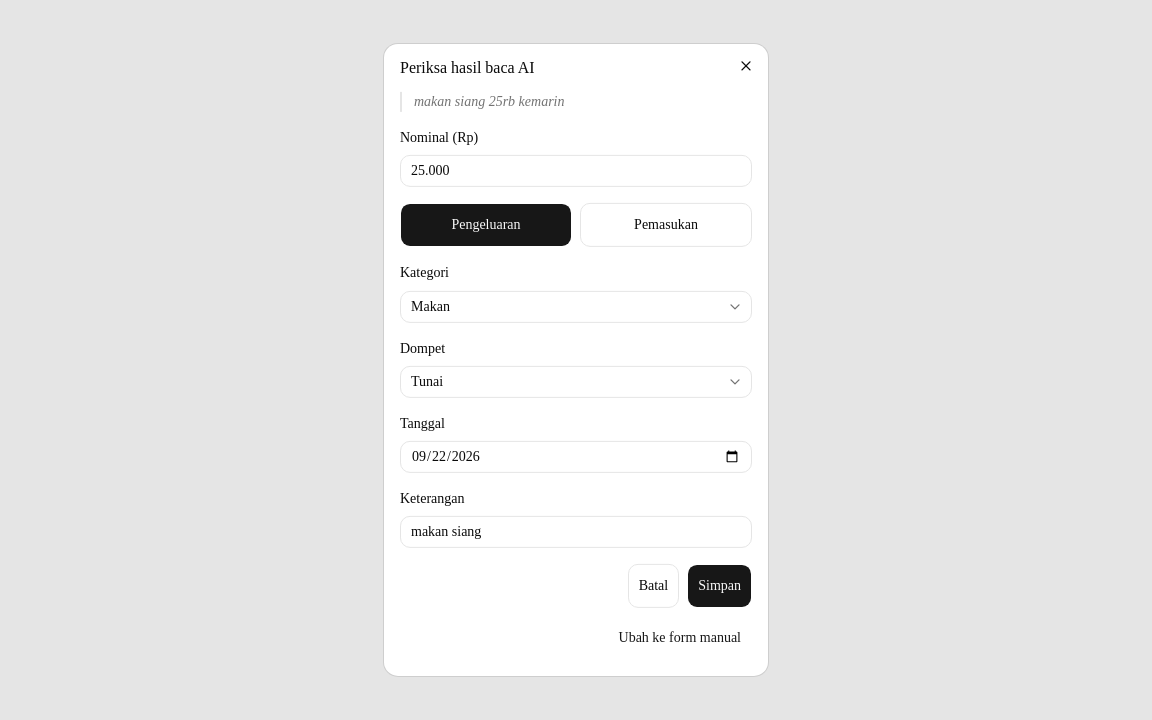
it: ConfirmCard › pesan error server tampil di atas form
Step 1. Click the button "Simpan" → (720,586), box [687,564,752,608]
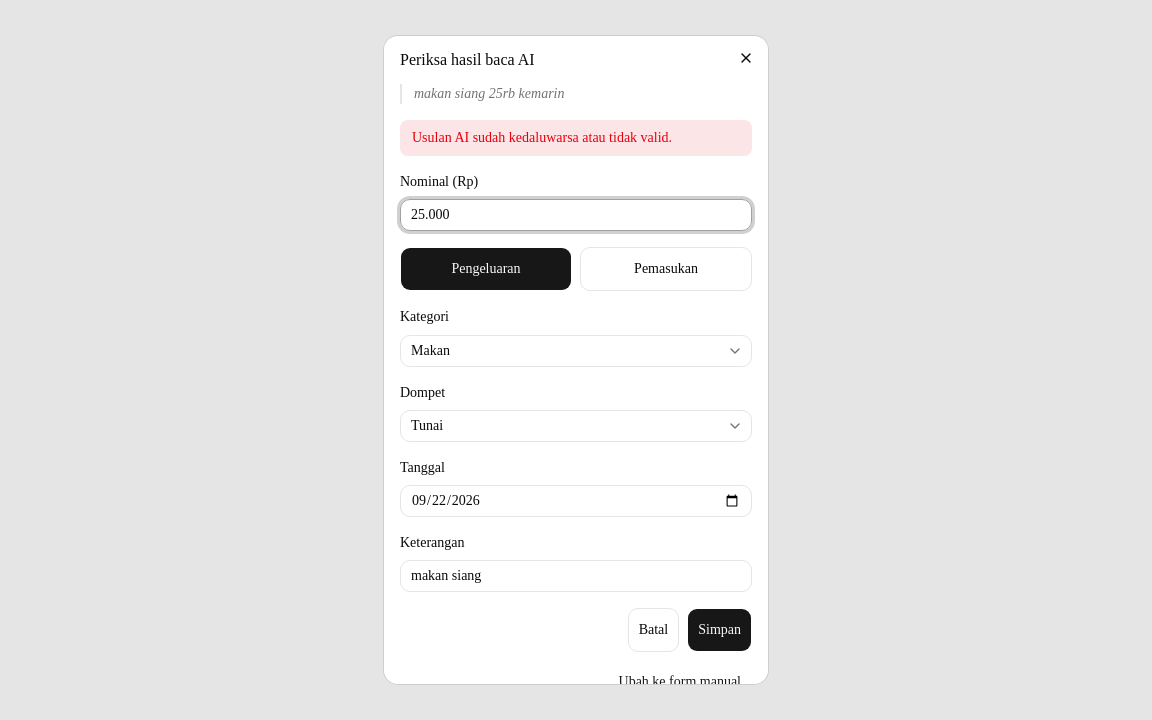
Expected: the message "Usulan AI sudah kedaluwarsa atau tidak valid." is shown, [400,120,752,156]
Expected: the message shows "kedaluwarsa", [412,130,672,145]
